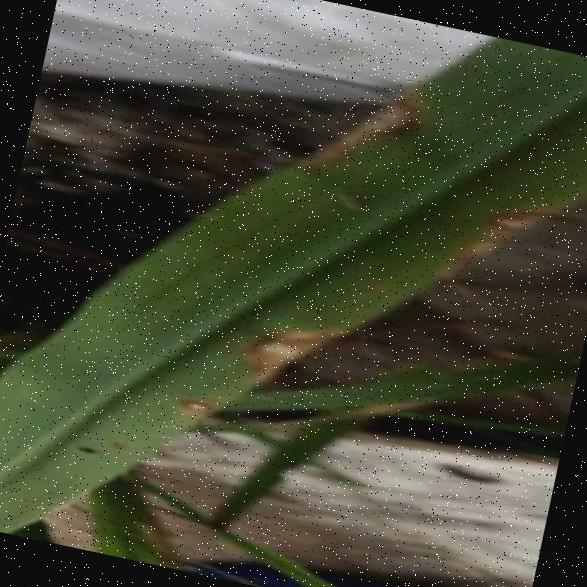Leaf_smut: (296, 56, 444, 212), (208, 292, 362, 411), (430, 165, 572, 292), (149, 370, 249, 455)
